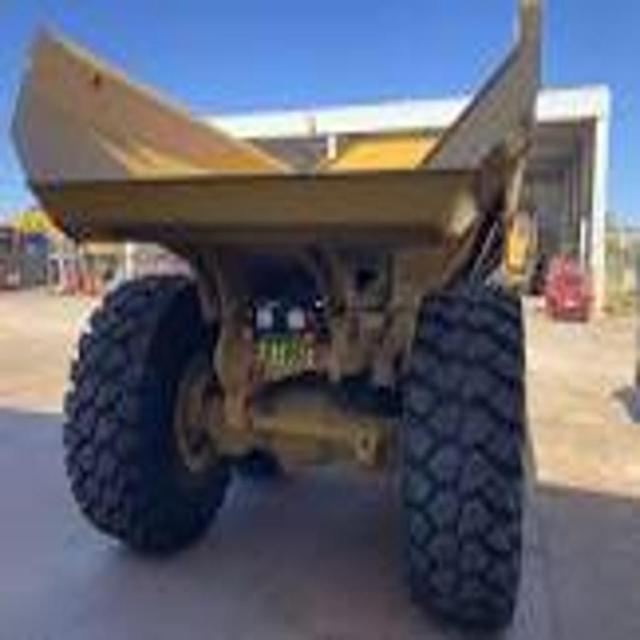dump_truck: (6, 10, 585, 640)
